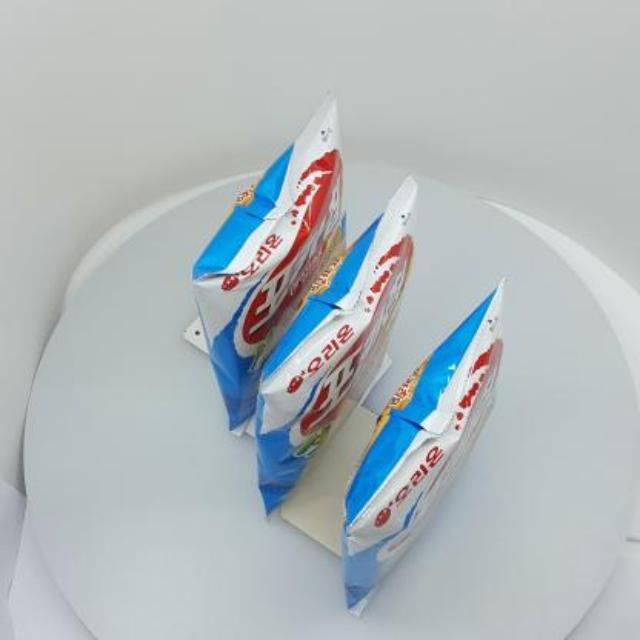snack_bag: (172, 79, 520, 625)
